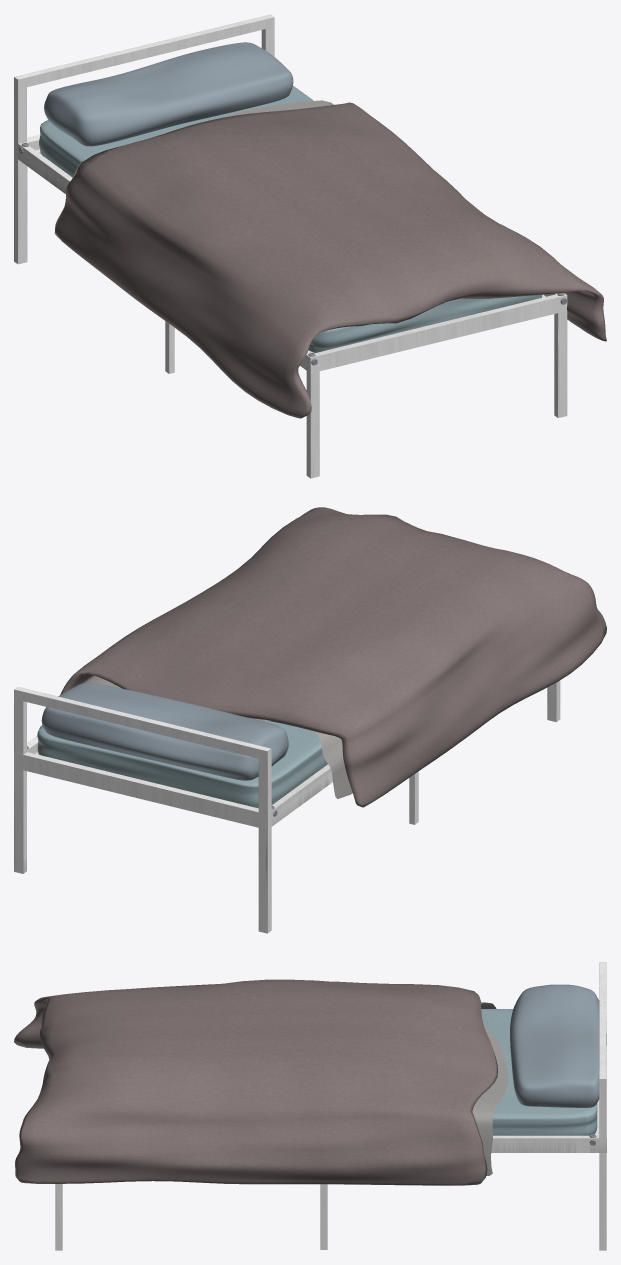
Rendered from single_bed.fbx.
3 views of the same model, one above another, from view 1: azimuth 30°, elevation 25°; view 2: azimuth 150°, elevation 25°; view 3: azimuth 270°, elevation 25° (orthographic). The views are drawn at different scales.
Parts seen in each view (by area): view 1: Cube.016, Cylinder.002, Cube.014, Cube.010, Cube.015; view 2: Cube.016, Cylinder.002, Cube.014, Cube.010, Cube.015; view 3: Cube.016, Cube.014, Cylinder.002, Cube.010, Cube.015.
Boxes of the visible parts, left/top/right/bottom form: Cube.016: left=54, top=102, right=606, bottom=418; Cylinder.002: left=14, top=14, right=567, bottom=478; Cube.014: left=44, top=42, right=293, bottom=146; Cube.010: left=39, top=86, right=542, bottom=352; Cube.015: left=72, top=100, right=333, bottom=178; Cube.016: left=60, top=507, right=606, bottom=807; Cylinder.002: left=14, top=680, right=560, bottom=933; Cube.014: left=41, top=683, right=288, bottom=780; Cube.010: left=37, top=720, right=327, bottom=808; Cube.015: left=82, top=675, right=352, bottom=798; Cube.016: left=14, top=979, right=497, bottom=1185; Cube.014: left=510, top=984, right=606, bottom=1107; Cylinder.002: left=55, top=962, right=606, bottom=1250; Cube.010: left=481, top=1009, right=597, bottom=1135; Cube.015: left=472, top=1002, right=508, bottom=1175.
Bounding box in the file's own units: 128 × 68.68 × 215.
Materials: 7 (7 with a texture image).
